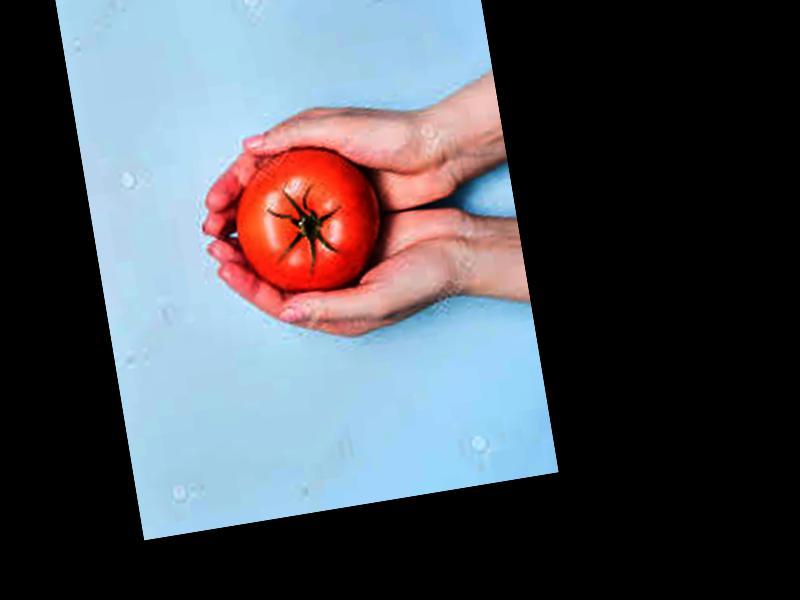Tomato: (226, 137, 390, 306)
